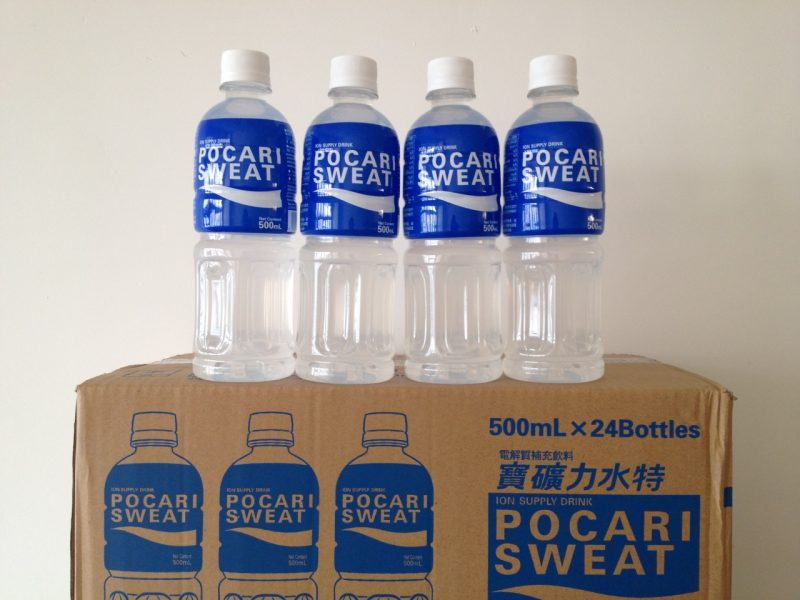POCARI SWEAT: (192, 51, 295, 372), (295, 52, 398, 373), (404, 54, 507, 375), (508, 53, 611, 374)
